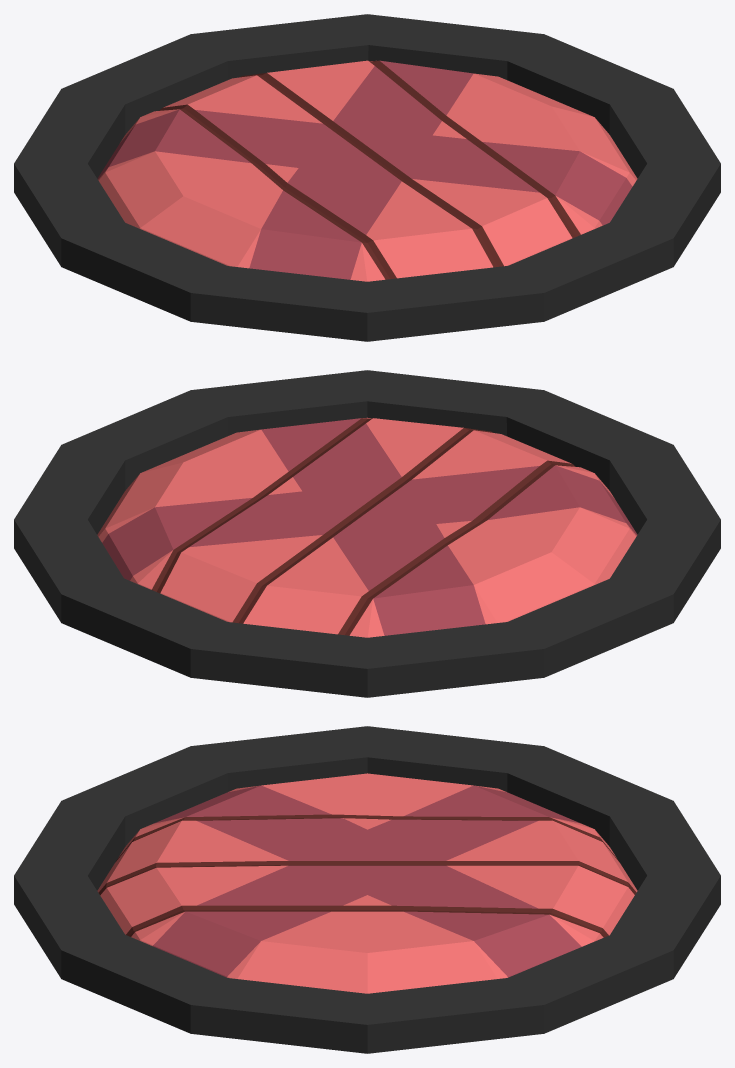
Rendered from F_Shield_B_Red.fbx.
3 views of the same model, one above another, from view 1: azimuth 30°, elevation 25°; view 2: azimuth 150°, elevation 25°; view 3: azimuth 270°, elevation 25° (orthographic).
Visible parts, largest first — view 1: F_Shield_B_Red; view 2: F_Shield_B_Red; view 3: F_Shield_B_Red.
Part boxes in pixels (x1,y1,x2,y2): F_Shield_B_Red: (14,14,720,341); F_Shield_B_Red: (14,370,720,697); F_Shield_B_Red: (14,726,720,1053).
Bounding box in the file's own units: 75.7 × 7.63 × 75.7.
